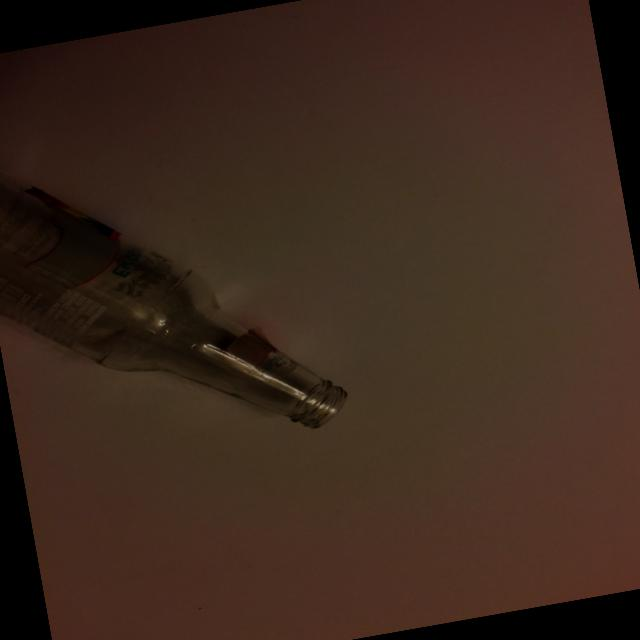Glass: (0, 72, 364, 484)
